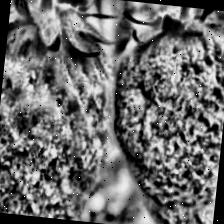Powdery Mildew Fruit: (0, 3, 130, 224), (99, 7, 224, 224)
